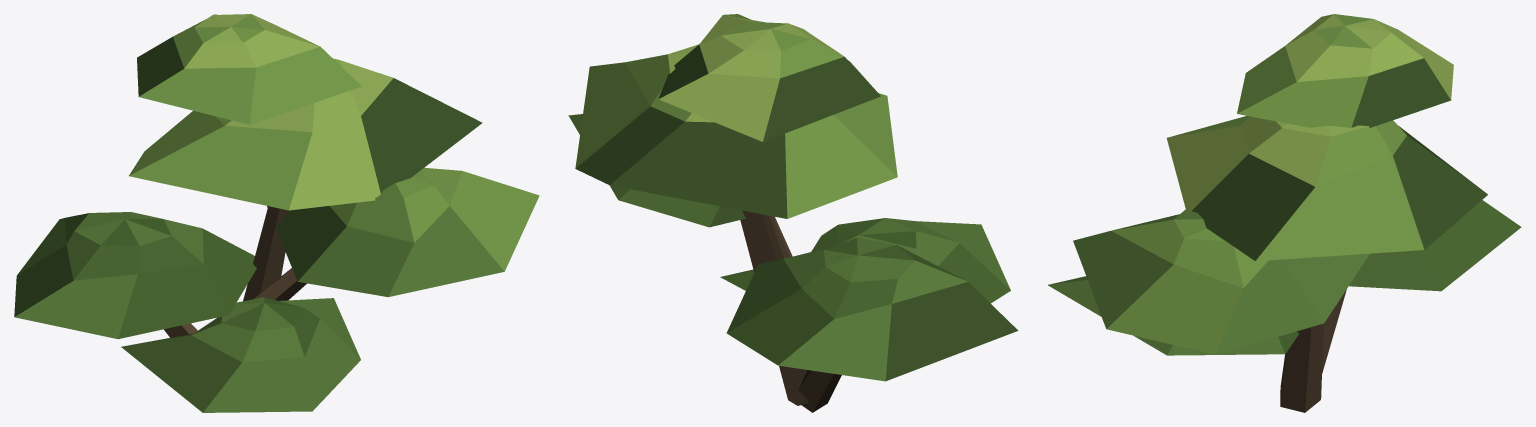
File: bush-c.glb
3 renders of one model, left to right at view 1: azimuth 30°, elevation 25°; view 2: azimuth 150°, elevation 25°; view 3: azimuth 270°, elevation 25°, orthographic. The views are drawn at different scales.
Visible parts, largest first — view 1: Bush_C; view 2: Bush_C; view 3: Bush_C.
Boxes of the visible parts, x1,y1,x2,y2 form: Bush_C: (14, 14, 539, 412); Bush_C: (568, 14, 1018, 412); Bush_C: (1048, 14, 1521, 412).
Bounding box in the file's own units: 1.26 × 0.9287 × 1.02.
1 material, 1 textured.
